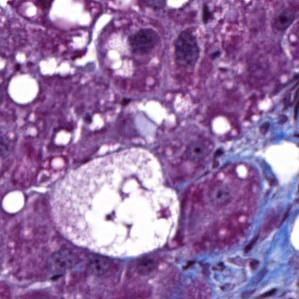ballooning: (47, 145, 182, 261)
